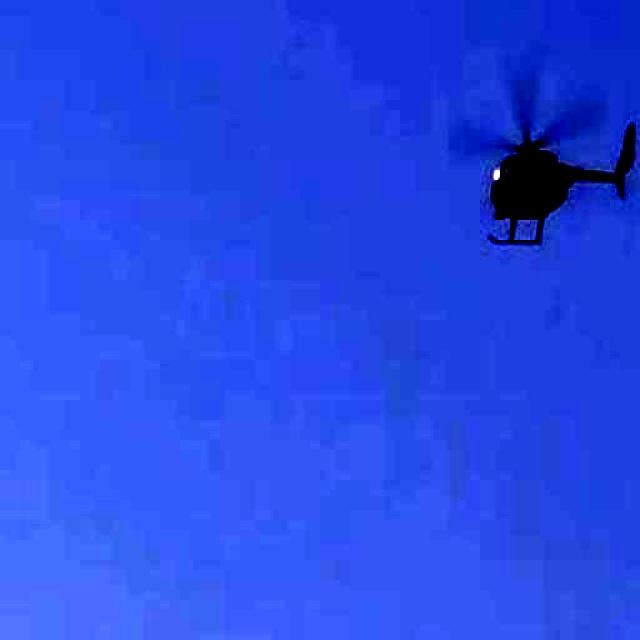drone: (424, 39, 640, 291)
